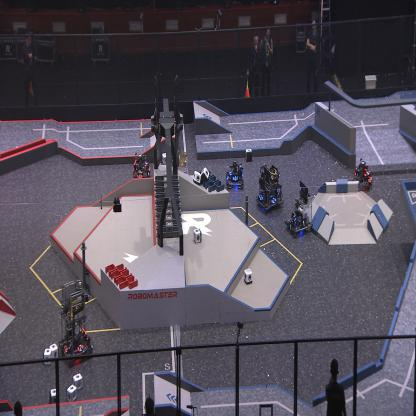car: (59, 279, 94, 364), (284, 180, 314, 237), (256, 162, 283, 212), (352, 159, 374, 194), (171, 150, 191, 186), (131, 153, 151, 183), (225, 159, 244, 189)
